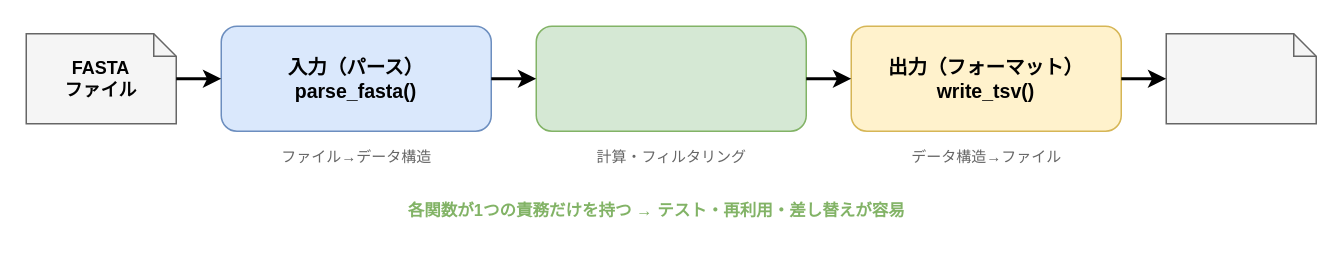
This 1343x255 diagram has some shape labels left out. Each missing label, with the centre of its shape:
"TSV ファイル" goes at point (1240, 78).
"処理（変換） filter_by_gc()" goes at point (670, 78).
